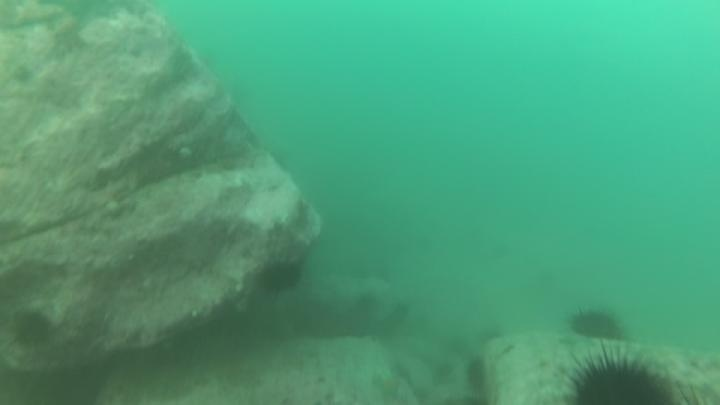echinus: (561, 347, 679, 404), (566, 304, 627, 344), (255, 255, 306, 298), (9, 306, 55, 351), (461, 355, 492, 397)
starfish: (369, 366, 409, 404)
